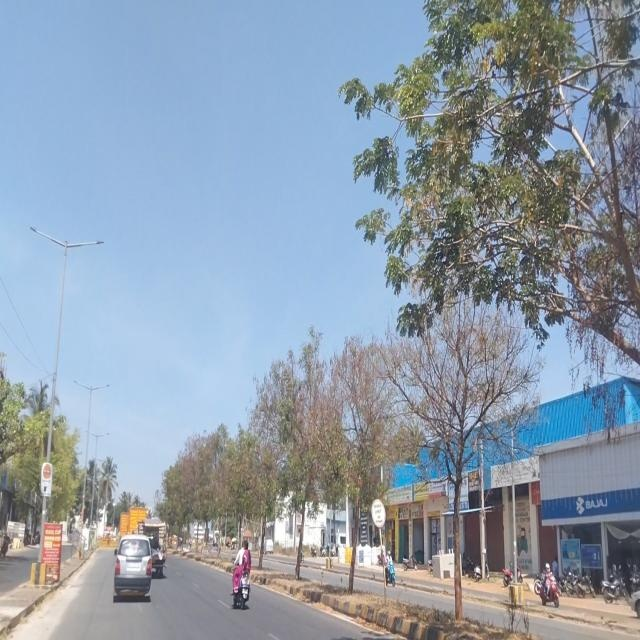bien_chi_dan: (370, 497, 388, 530)
